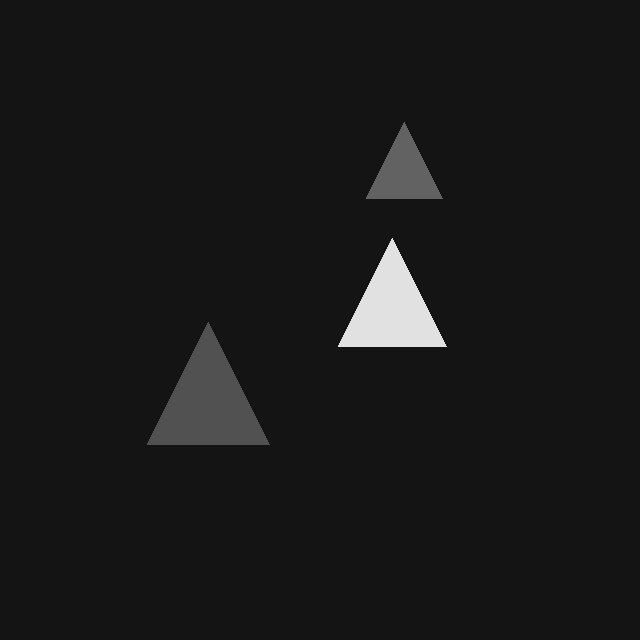triangle: (147, 322, 269, 444), (338, 238, 446, 346), (366, 122, 442, 198)
